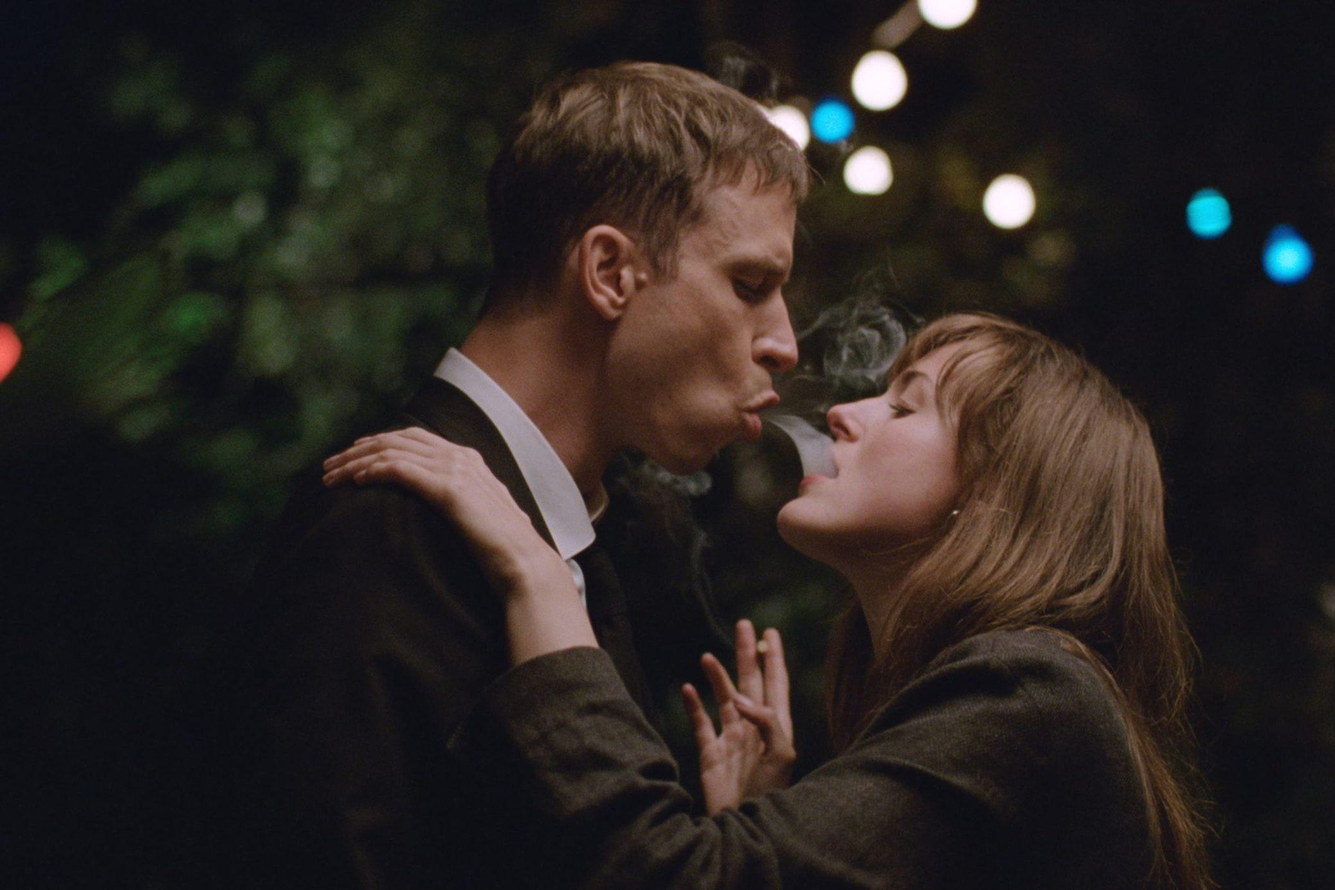Persons: (800, 206, 1266, 755), (471, 21, 845, 522)
